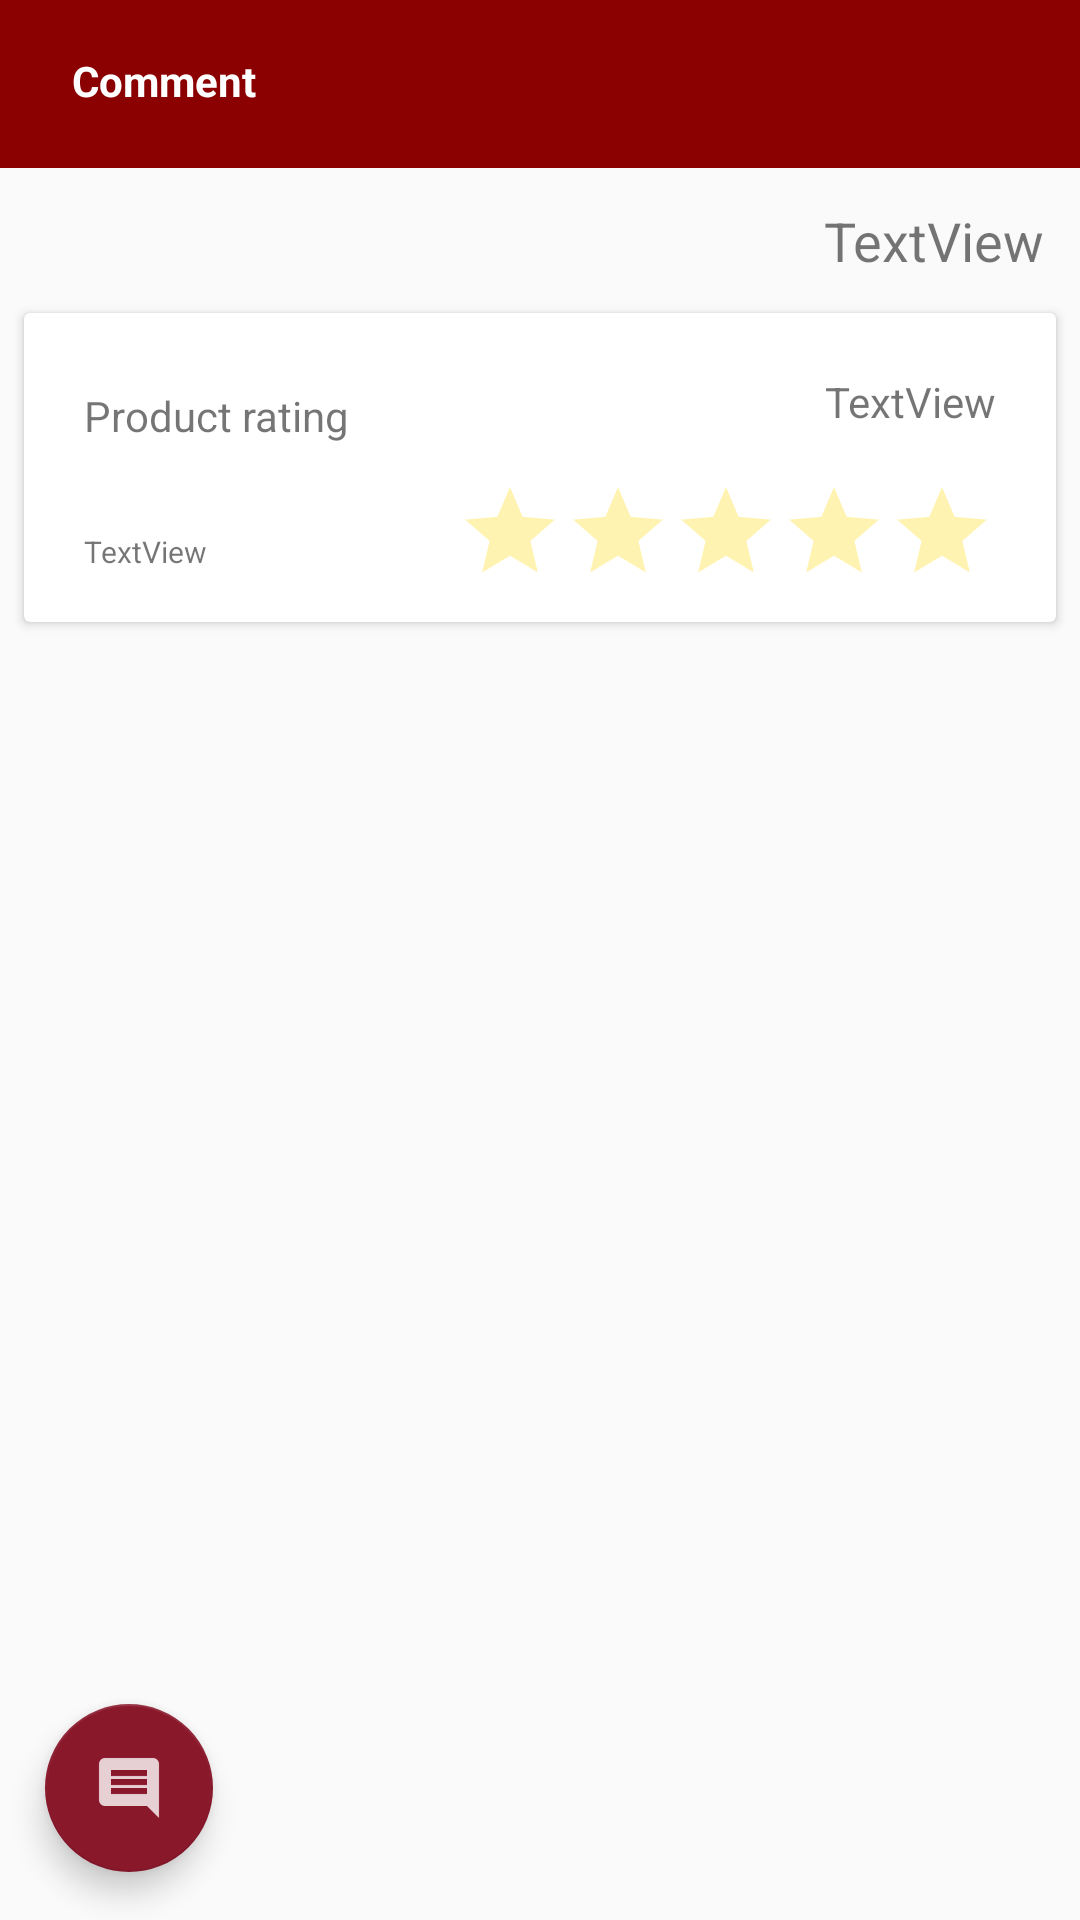

Named icons in this screenshot (1080w x 1920h) and their bounding boxes, (x1, y1, x2, y2):
comment: (45, 1704, 213, 1872)
